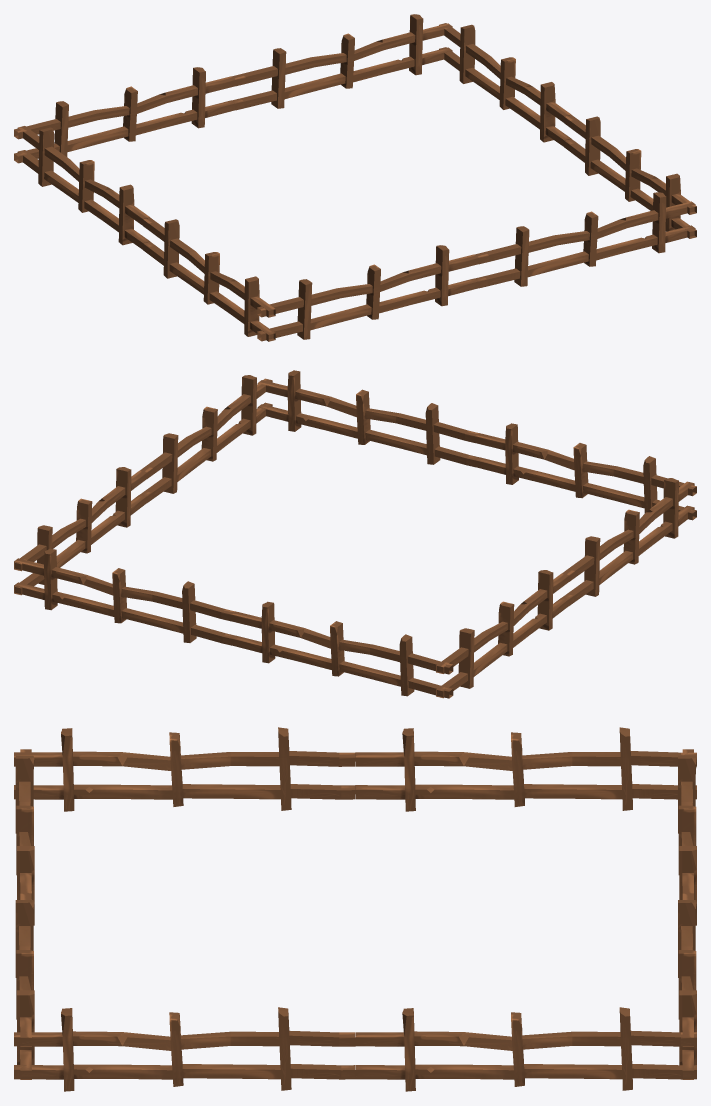
Rendered from fence.fbx.
3 renders of one model, top to bottom at view 1: azimuth 30°, elevation 25°; view 2: azimuth 150°, elevation 25°; view 3: azimuth 270°, elevation 25°, orthographic. The views are drawn at different scales.
Visible parts, largest first — view 1: cerca.001, cerca; view 2: cerca.001, cerca; view 3: cerca, cerca.001.
Part boxes in pixels (x1,y1,x2,y2): cerca.001: [14, 14, 695, 341]; cerca: [17, 23, 696, 341]; cerca.001: [14, 370, 696, 698]; cerca: [14, 375, 694, 698]; cerca: [14, 727, 696, 1091]; cerca.001: [15, 749, 696, 1079].
Size of the model in its own units: 1232 by 1230 by 152.
